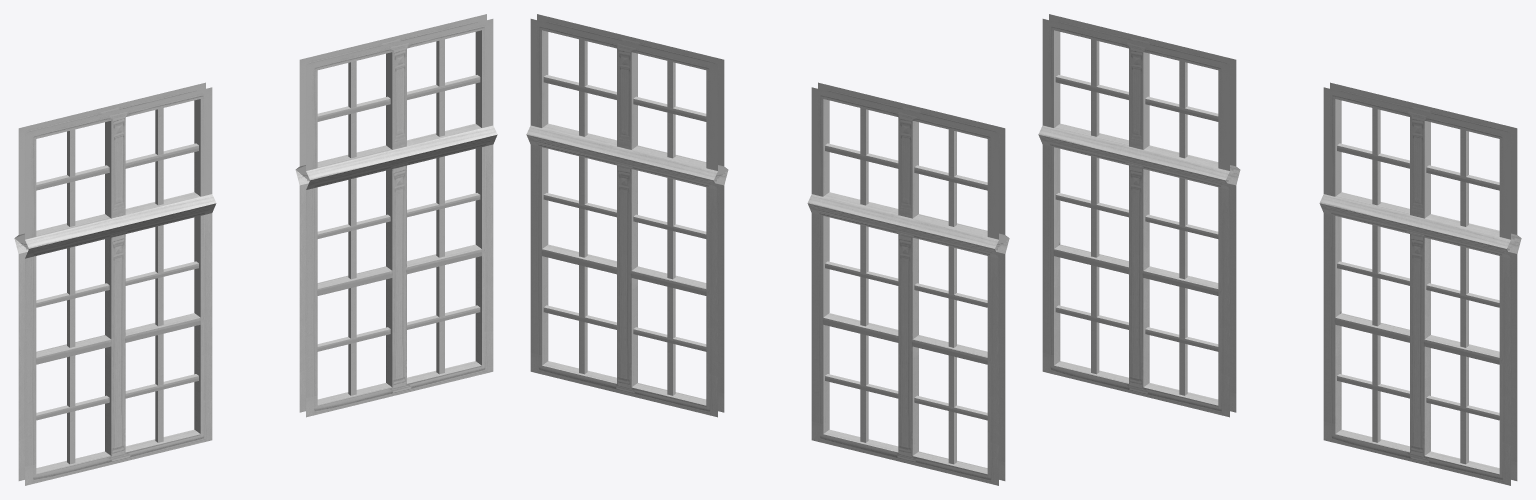
The model's file is Window2doubleB.fbx.
3 renders of one model, left to right at view 1: azimuth 30°, elevation 25°; view 2: azimuth 150°, elevation 25°; view 3: azimuth 330°, elevation 25°, orthographic.
Visible parts, largest first — view 1: Window2doubleB; view 2: Window2doubleB; view 3: Window2doubleB.
Boxes of the visible parts, x1,y1,x2,y2 form: Window2doubleB: (14,14,497,485); Window2doubleB: (526,14,1009,485); Window2doubleB: (1038,14,1521,485).
Bounding box in the file's own units: 250 × 180 × 13.57.
